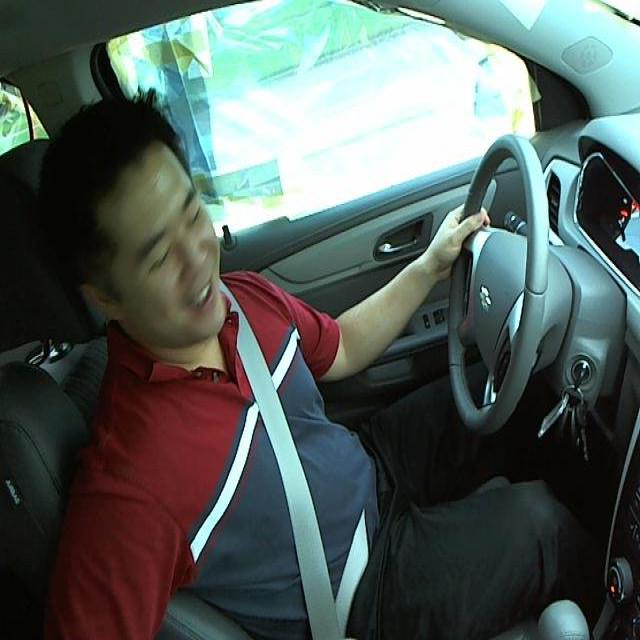seatbelt: (220, 328, 385, 637)
